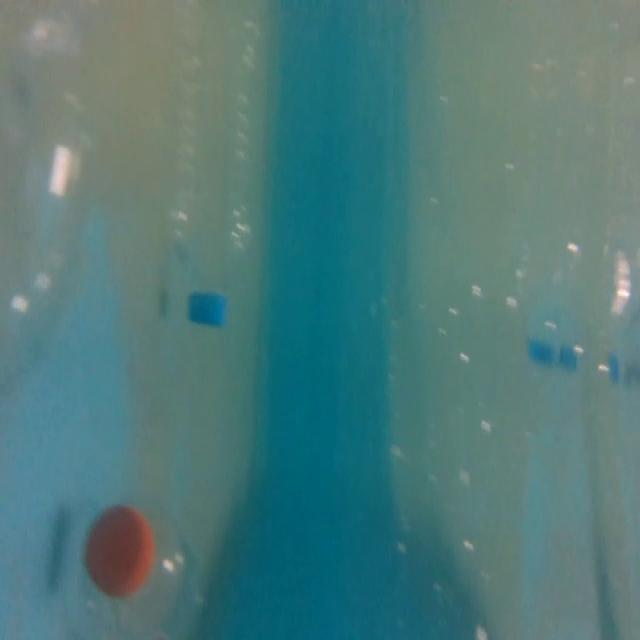plastic bottle: (156, 7, 271, 325), (75, 489, 204, 639)
